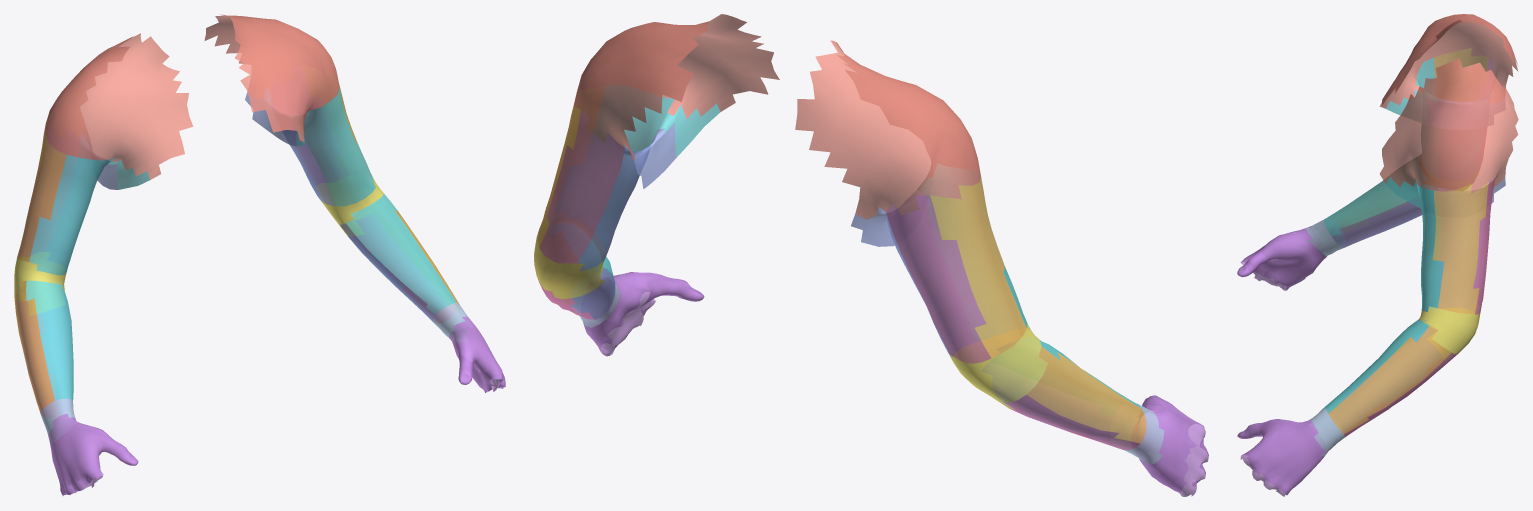
Rendered from neutro_body_v1_detailed_arms_interaction.glb.
3 views of the same model, side by side, from view 1: azimuth 30°, elevation 25°; view 2: azimuth 150°, elevation 25°; view 3: azimuth 270°, elevation 25° (orthographic). The views are drawn at different scales.
Parts seen in each view (by area): view 1: zone_right_shoulder, zone_left_shoulder, zone_right_upper_arm_front, zone_left_forearm_front, zone_left_upper_arm_front, zone_right_hand, zone_right_upper_arm_back, zone_left_upper_arm_back, zone_right_forearm_front, zone_right_upper_arm_inner, zone_left_forearm_back, zone_left_elbow (+12 smaller); view 2: zone_right_shoulder, zone_left_shoulder, zone_left_upper_arm_front, zone_right_upper_arm_front, zone_right_upper_arm_back, zone_right_upper_arm_outer, zone_left_upper_arm_back, zone_right_upper_arm_inner, zone_right_forearm_outer, zone_right_hand, zone_left_hand, zone_right_elbow (+11 smaller); view 3: zone_left_shoulder, zone_left_upper_arm_outer, zone_right_shoulder, zone_left_upper_arm_inner, zone_left_forearm_outer, zone_left_hand, zone_right_upper_arm_inner, zone_left_forearm_inner, zone_right_hand, zone_left_upper_arm_front, zone_right_forearm_front, zone_right_upper_arm_outer (+12 smaller).
Boxes of the visible parts, x1,y1,x2,y2 form: zone_right_shoulder: (43, 33, 193, 179); zone_left_shoulder: (204, 14, 339, 142); zone_right_upper_arm_front: (29, 154, 149, 275); zone_left_forearm_front: (346, 194, 456, 314); zone_left_upper_arm_front: (293, 88, 375, 206); zone_right_hand: (48, 413, 138, 495); zone_right_upper_arm_back: (19, 126, 79, 256); zone_left_upper_arm_back: (271, 66, 346, 184); zone_right_forearm_front: (26, 280, 73, 400); zone_right_upper_arm_inner: (46, 134, 117, 269); zone_left_forearm_back: (356, 213, 454, 323); zone_left_elbow: (316, 175, 387, 236); zone_right_shoulder: (795, 40, 980, 219); zone_left_shoulder: (574, 14, 779, 161); zone_left_upper_arm_front: (555, 85, 720, 249); zone_right_upper_arm_front: (917, 164, 1029, 341); zone_right_upper_arm_back: (885, 195, 991, 363); zone_right_upper_arm_outer: (930, 177, 1026, 358); zone_left_upper_arm_back: (539, 110, 624, 263); zone_right_upper_arm_inner: (851, 190, 974, 359); zone_right_forearm_outer: (1027, 346, 1146, 443); zone_right_hand: (1132, 395, 1208, 496); zone_left_hand: (581, 272, 704, 356); zone_right_elbow: (948, 324, 1047, 410); zone_left_shoulder: (1379, 58, 1518, 193); zone_left_upper_arm_outer: (1432, 182, 1488, 314); zone_right_shoulder: (1379, 14, 1518, 108); zone_left_upper_arm_inner: (1436, 178, 1505, 310); zone_left_forearm_outer: (1328, 325, 1451, 434); zone_left_hand: (1237, 419, 1325, 496); zone_right_upper_arm_inner: (1426, 91, 1504, 180); zone_left_forearm_inner: (1332, 328, 1441, 431); zone_right_hand: (1237, 226, 1326, 290); zone_left_upper_arm_front: (1386, 177, 1444, 312); zone_right_forearm_front: (1324, 155, 1426, 236); zone_right_upper_arm_outer: (1434, 48, 1488, 101).
Size of the model in its own units: 0.7372 by 0.5711 by 0.412.
